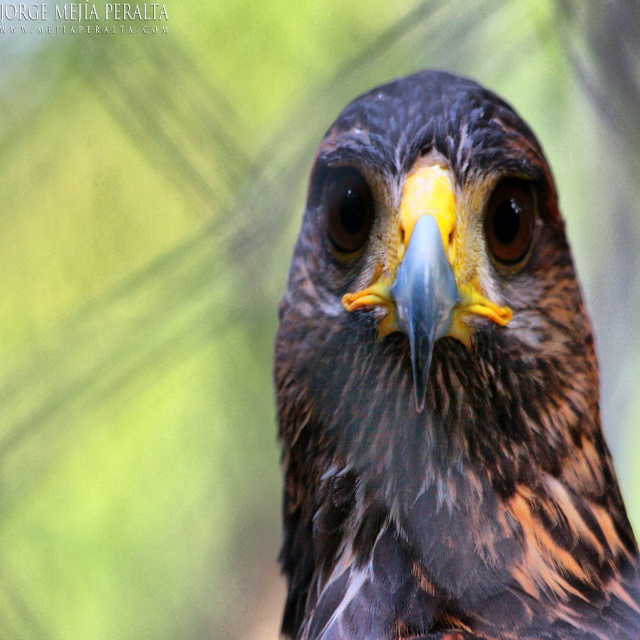Eagle: (275, 66, 640, 639)
